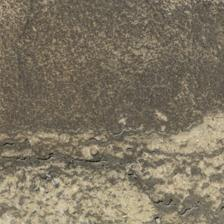Crack: (2, 69, 192, 149)
